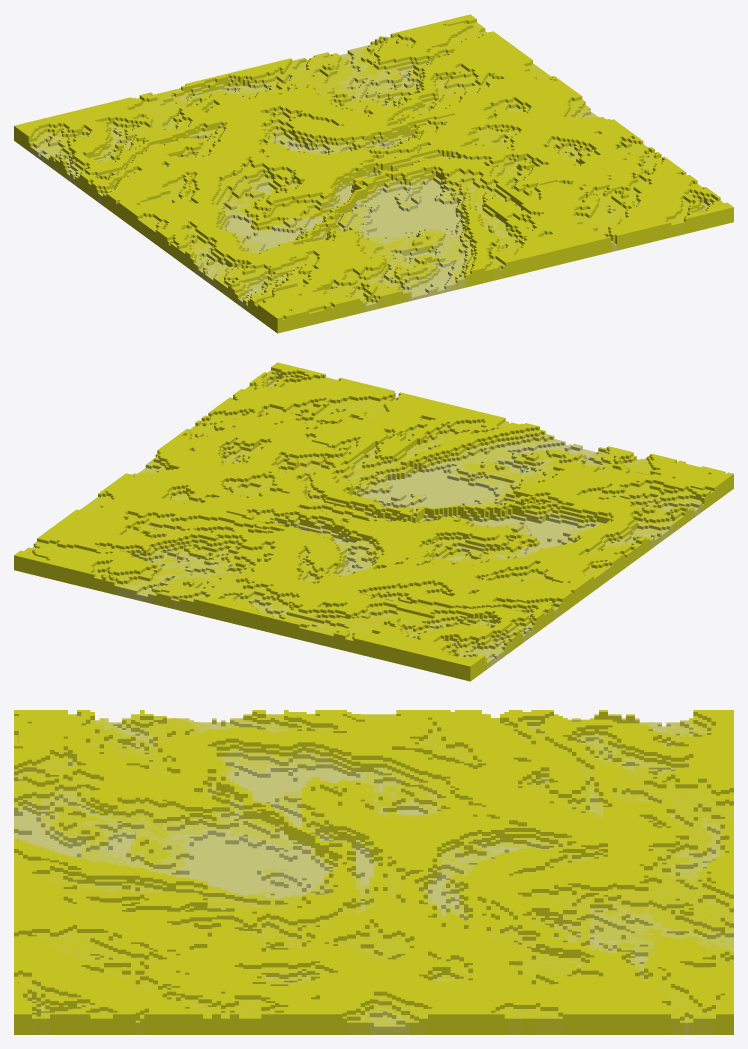
The model's file is For Maya.fbx.
3 views of the same model, one above another, from view 1: azimuth 30°, elevation 25°; view 2: azimuth 150°, elevation 25°; view 3: azimuth 270°, elevation 25° (orthographic). The views are drawn at different scales.
Parts seen in each view (by area): view 1: Destert Map-5, Destert Map-6, Destert Map-3, Destert Map-15, Destert Map-7, Destert Map-14, Destert Map-4, Destert Map-20, Destert Map-24, Destert Map-8, Destert Map-9, Destert Map-11 (+13 smaller); view 2: Destert Map-7, Destert Map-0, Destert Map-13, Destert Map-10, Destert Map-8, Destert Map-11, Destert Map-5, Destert Map-15, Destert Map-9, Destert Map-21, Destert Map-18, Destert Map-17 (+13 smaller); view 3: Destert Map-2, Destert Map-12, Destert Map-0, Destert Map-3, Destert Map-1, Destert Map-4, Destert Map-14, Destert Map-18, Destert Map-6, Destert Map-19, Destert Map-9, Destert Map-13 (+13 smaller).
Part boxes in pixels (<box>): Destert Map-5: <box>224,260,368,333</box>; Destert Map-6: <box>498,191,642,266</box>; Destert Map-3: <box>591,169,733,244</box>; Destert Map-15: <box>407,218,551,288</box>; Destert Map-7: <box>14,103,157,178</box>; Destert Map-14: <box>119,180,262,255</box>; Destert Map-4: <box>316,241,459,311</box>; Destert Map-20: <box>211,158,354,230</box>; Destert Map-24: <box>302,143,444,207</box>; Destert Map-8: <box>66,145,209,217</box>; Destert Map-9: <box>172,229,315,294</box>; Destert Map-11: <box>288,38,431,102</box>; Destert Map-7: <box>379,607,523,681</box>; Destert Map-0: <box>14,517,157,592</box>; Destert Map-13: <box>196,563,340,636</box>; Destert Map-10: <box>288,583,429,659</box>; Destert Map-8: <box>433,567,575,642</box>; Destert Map-11: <box>105,539,249,614</box>; Destert Map-5: <box>590,453,733,526</box>; Destert Map-15: <box>407,407,550,473</box>; Destert Map-9: <box>538,493,681,565</box>; Destert Map-21: <box>355,450,498,510</box>; Destert Map-18: <box>449,474,589,539</box>; Destert Map-17: <box>263,423,407,489</box>; Destert Map-2: <box>158,953,301,1034</box>; Destert Map-12: <box>302,953,445,1034</box>; Destert Map-0: <box>590,953,733,1034</box>; Destert Map-3: <box>14,953,157,1034</box>; Destert Map-1: <box>446,953,589,1034</box>; Destert Map-4: <box>14,771,157,848</box>; Destert Map-14: <box>302,710,445,786</box>; Destert Map-18: <box>158,771,301,848</box>; Destert Map-6: <box>14,892,157,959</box>; Destert Map-19: <box>446,771,589,843</box>; Destert Map-9: <box>158,710,301,787</box>; Destert Map-13: <box>590,832,733,900</box>.
Size of the model in its own units: 1600 by 50 by 1600.
